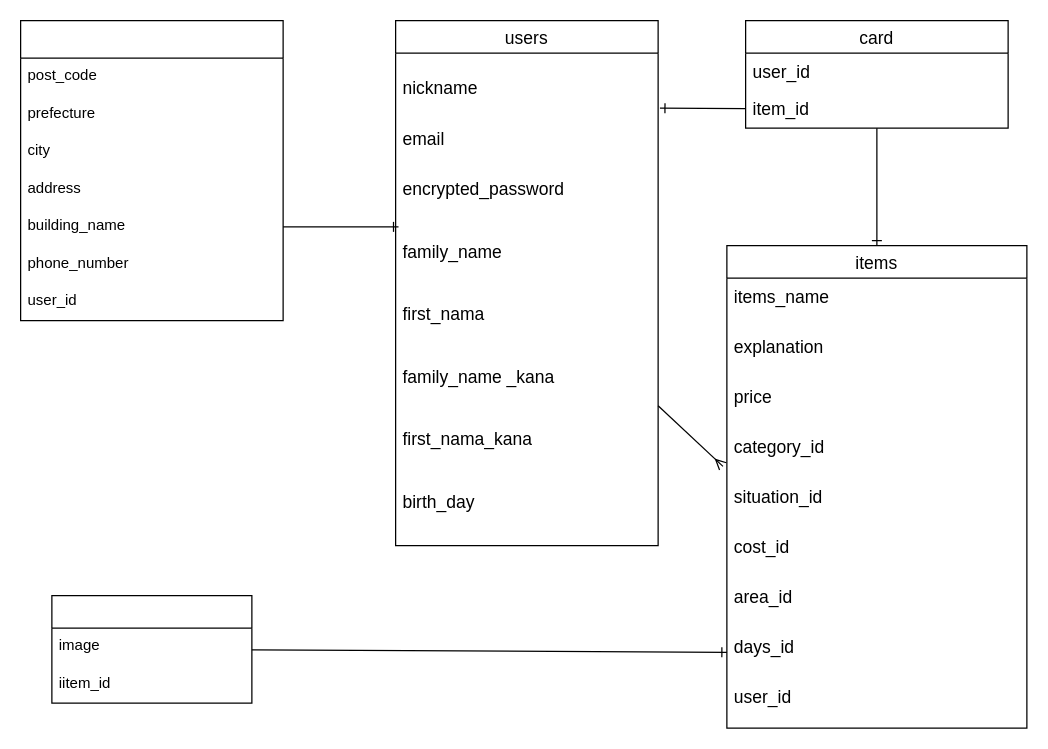
The diagram is 1048 pixels wide and 749 high, and some of its shapes have lost their labels. The shapes that lost their labels are listed below. From the top down, each one's box as (x1, y1, x2, y2) in pixels, then its label:
(19, 19, 283, 321): shippings
(51, 594, 252, 703): images
